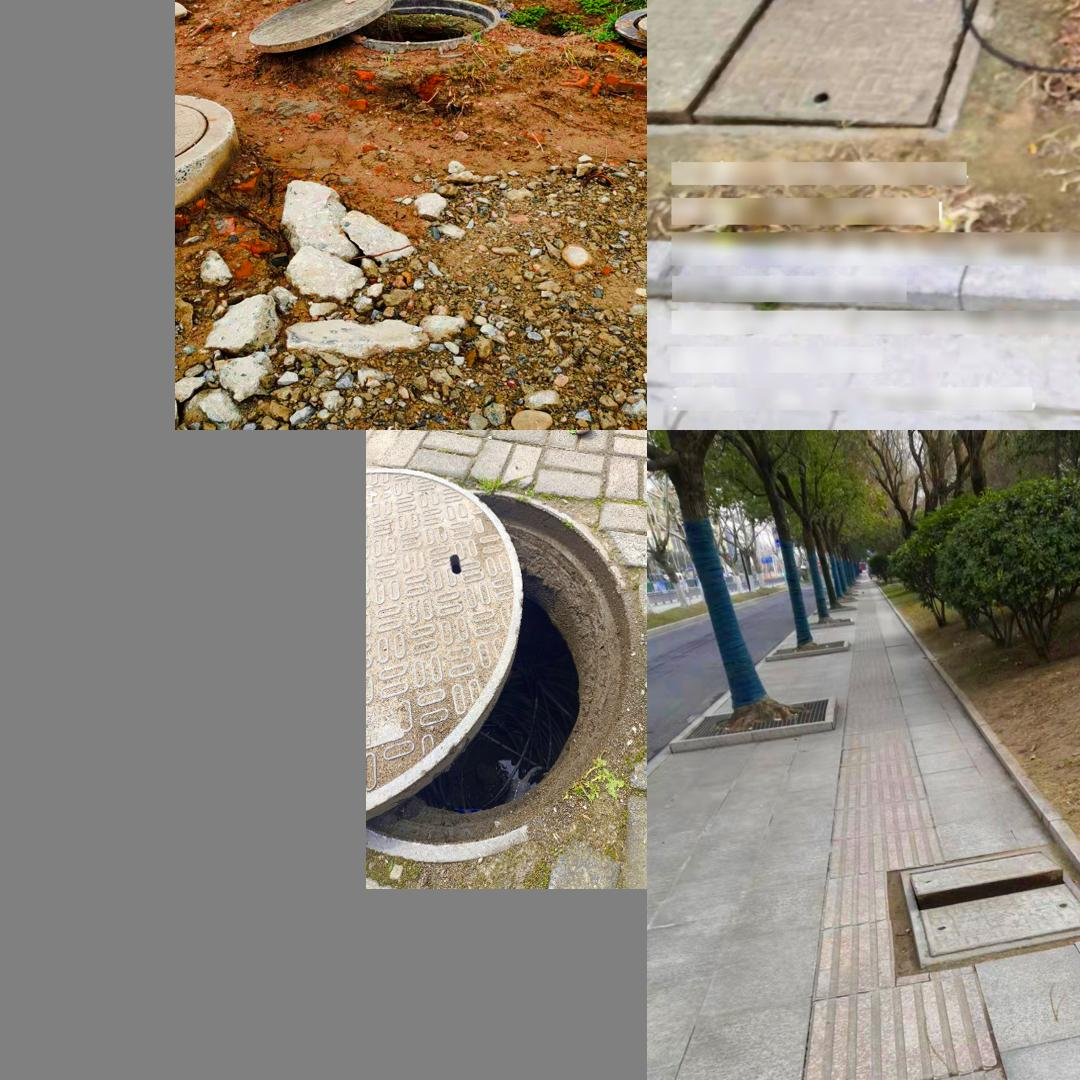uncovered: (366, 474, 631, 861), (647, 0, 995, 143), (894, 847, 1080, 969), (237, 0, 522, 56)
